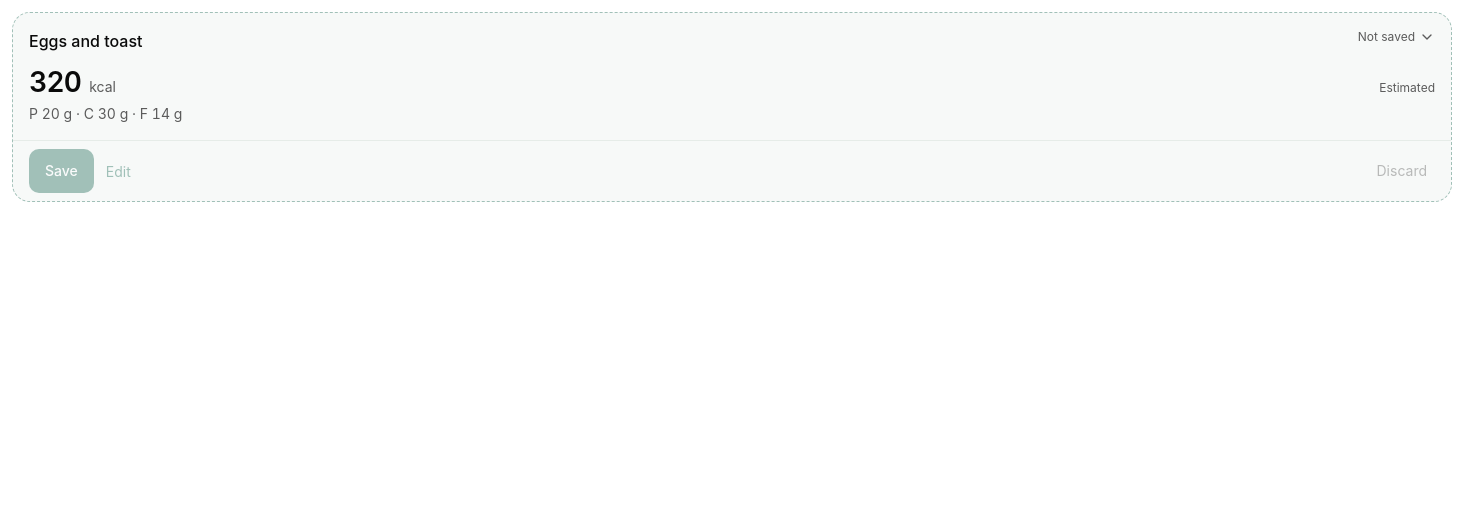
Test: renders the ai source without turning non-URLs into links
The image size is (1464, 507).
What coordinates should you click on to do the following:
click the button with aria-label "Expand Eggs and toast"
I would click on:
 (732, 76)
Its box is [13,13,1451,140].
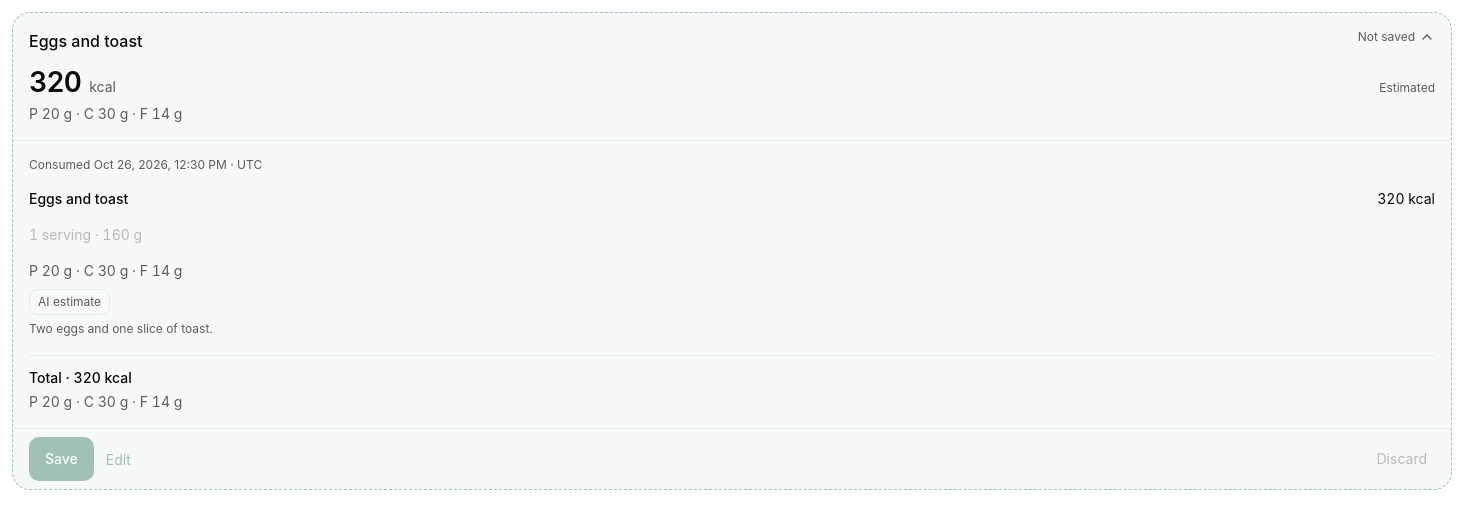
Expected: the text "AI estimate" is shown, [29,289,110,315]
